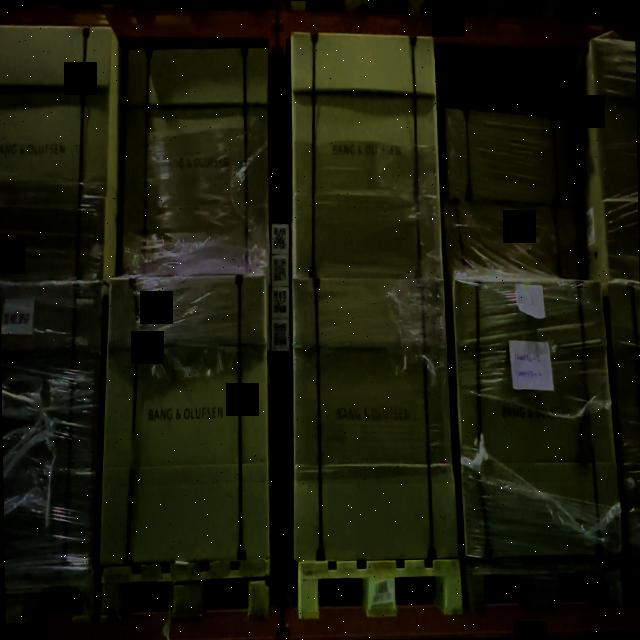box: (98, 279, 268, 560), (453, 278, 620, 557), (294, 281, 460, 559), (294, 34, 439, 280), (121, 52, 267, 272), (445, 114, 576, 202), (445, 210, 582, 274)
